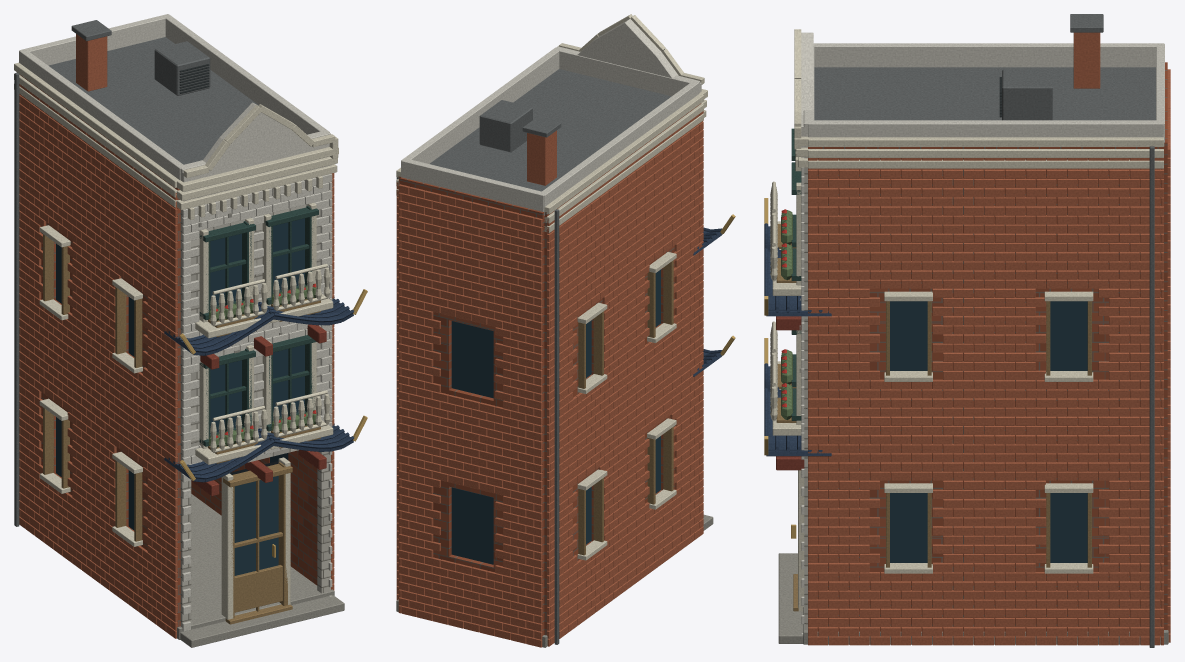
Rendered from CHINA16_lod0.glb.
The picture shows the model from 3 angles, left to right: view 1: azimuth 30°, elevation 25°; view 2: azimuth 150°, elevation 25°; view 3: azimuth 270°, elevation 25°; orthographic projection. The views are drawn at different scales.
Parts seen in each view (by area): view 1: CHINA16_LOD0; view 2: CHINA16_LOD0; view 3: CHINA16_LOD0.
Part boxes in pixels (box(x1,y1,x2,y2)): CHINA16_LOD0: box(14, 14, 367, 647); CHINA16_LOD0: box(396, 14, 735, 647); CHINA16_LOD0: box(764, 14, 1170, 647).
Bounding box in the file's own units: 4.01 × 10.64 × 6.85.
21 materials, 18 textured.
